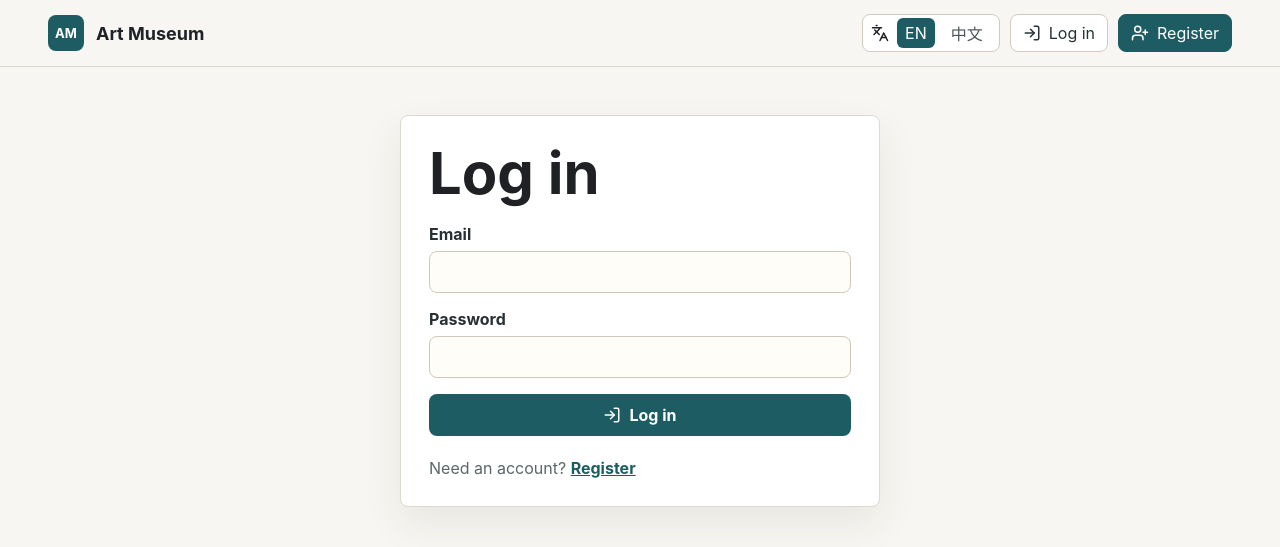
Test: Art Museum frontend › switches language while preserving the current page
Check: the heading "Log in" is shown, box x1=429 y1=138 x2=600 y2=208
Click the button "中文" at (967, 33), box x1=943 y1=16 x2=991 y2=50
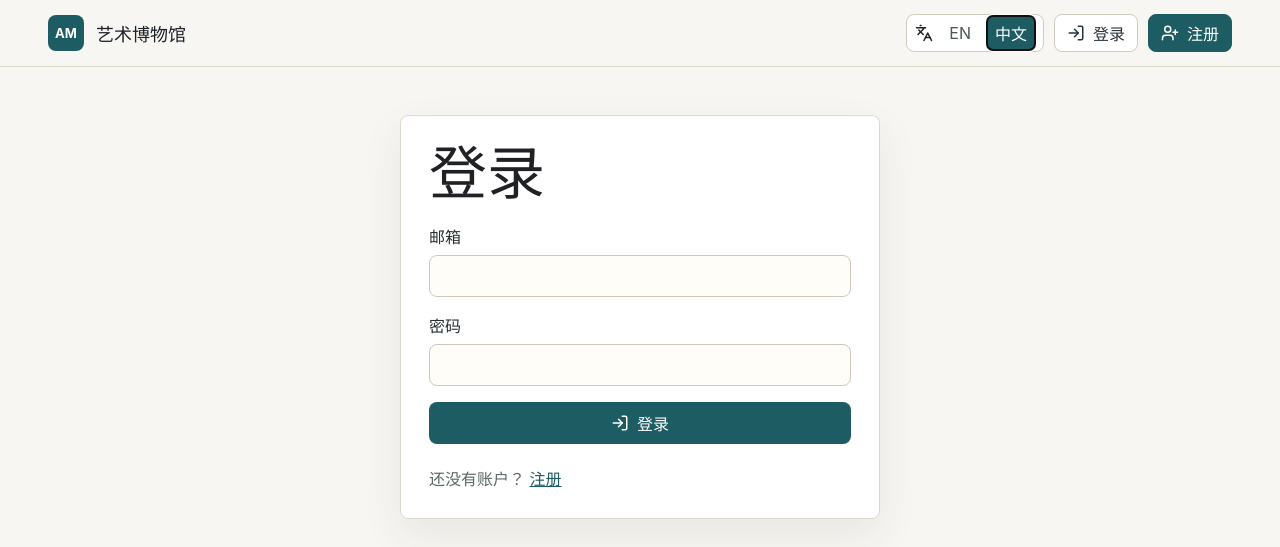
Check: the text "邮箱" is shown, box x1=429 y1=224 x2=851 y2=297
